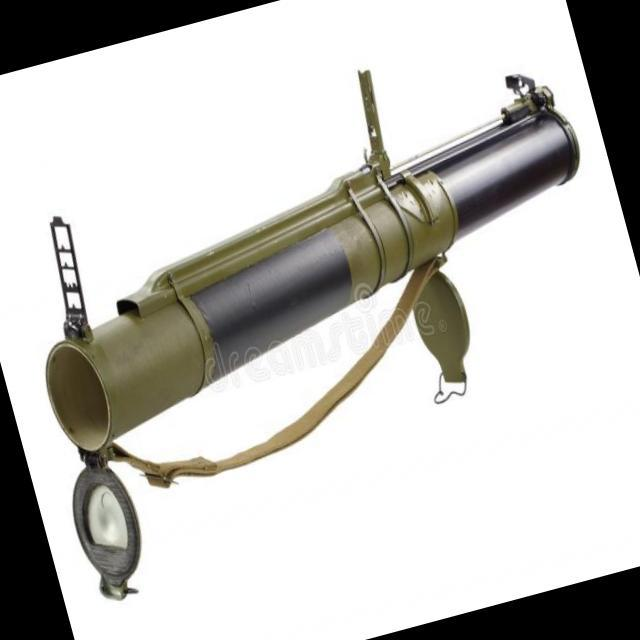rocket: (0, 26, 640, 609)
